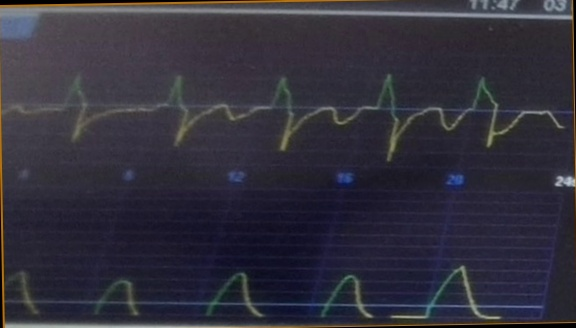Ineffective_effort Flow: (3, 63, 563, 160)
Ineffective_effort Volume: (7, 247, 502, 324)
